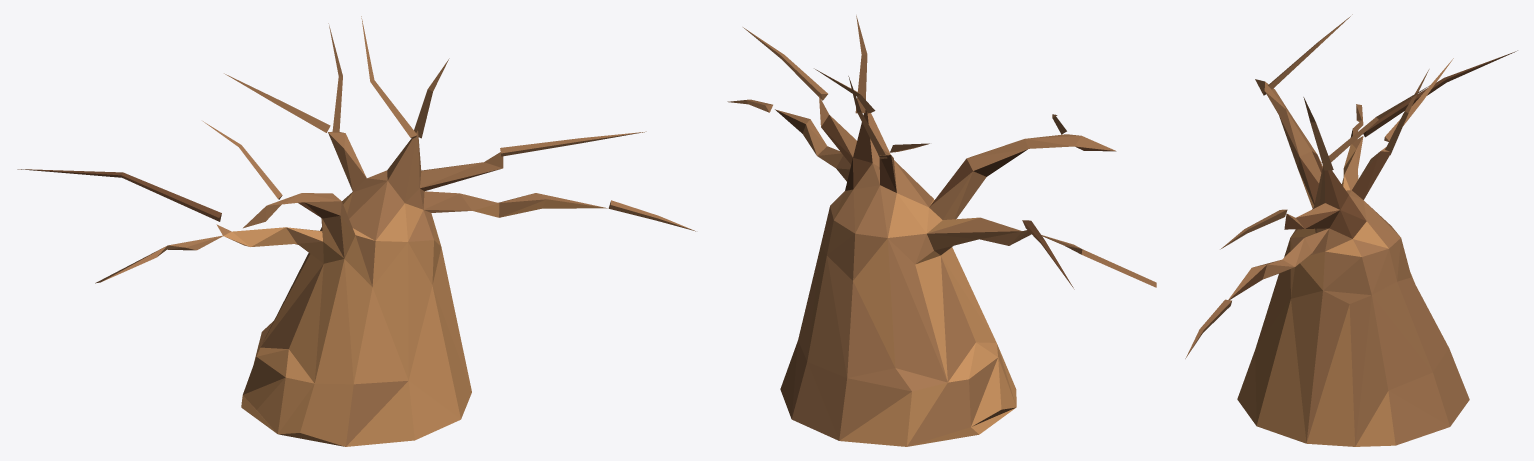
File: baobab_bare_far.glb
3 views of the same model, side by side, from view 1: azimuth 30°, elevation 25°; view 2: azimuth 150°, elevation 25°; view 3: azimuth 270°, elevation 25° (orthographic). The views are drawn at different scales.
Parts seen in each view (by area): view 1: baobab_bare_far; view 2: baobab_bare_far; view 3: baobab_bare_far.
Part boxes in pixels (x1,y1,x2,y2): baobab_bare_far: (17,16,695,446); baobab_bare_far: (727,15,1156,446); baobab_bare_far: (1185,14,1517,446).
Size of the model in its own units: 9.03 by 5.77 by 5.18.
